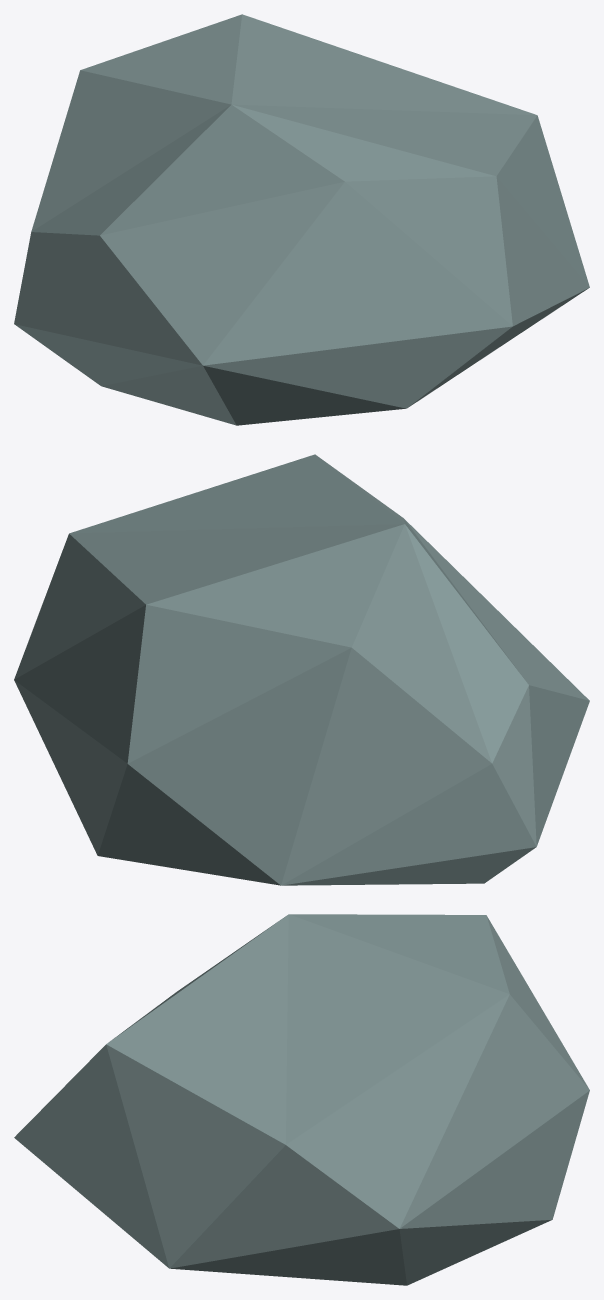
The model's file is rock2.glb.
The picture shows the model from 3 angles, top to bottom: view 1: azimuth 30°, elevation 25°; view 2: azimuth 150°, elevation 25°; view 3: azimuth 270°, elevation 25°; orthographic projection. The views are drawn at different scales.
Parts seen in each view (by area): view 1: Icosphere.002; view 2: Icosphere.002; view 3: Icosphere.002.
Boxes of the visible parts, x1,y1,x2,y2 form: Icosphere.002: [14, 14, 589, 425]; Icosphere.002: [14, 454, 589, 885]; Icosphere.002: [14, 914, 589, 1285].
Bounding box in the file's own units: 2.09 × 1.18 × 2.23.
